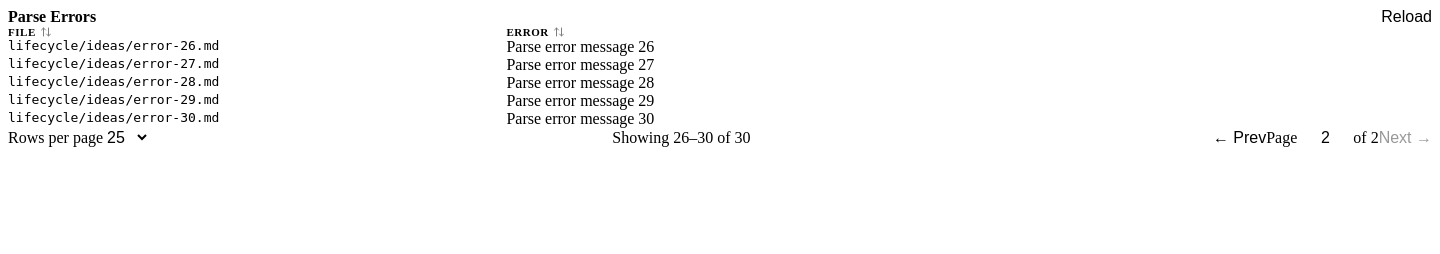
Test: ParseErrorsView — Reload preserves pagination › Reload re-fetches data while preserving page state
Expected: the number of rows with class "error-row" is 5, [8,38,1432,56]; [8,56,1432,74]; [8,74,1432,92]; [8,92,1432,110]; [8,110,1432,128]
Click the button with aria-label "Reload parse errors" at (1407, 17), box [1381,8,1432,26]
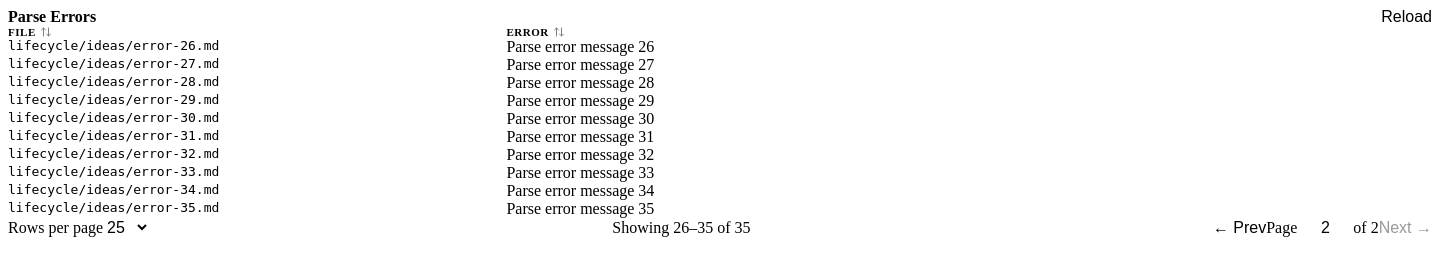
Expected: the number of rows with class "error-row" is 10
